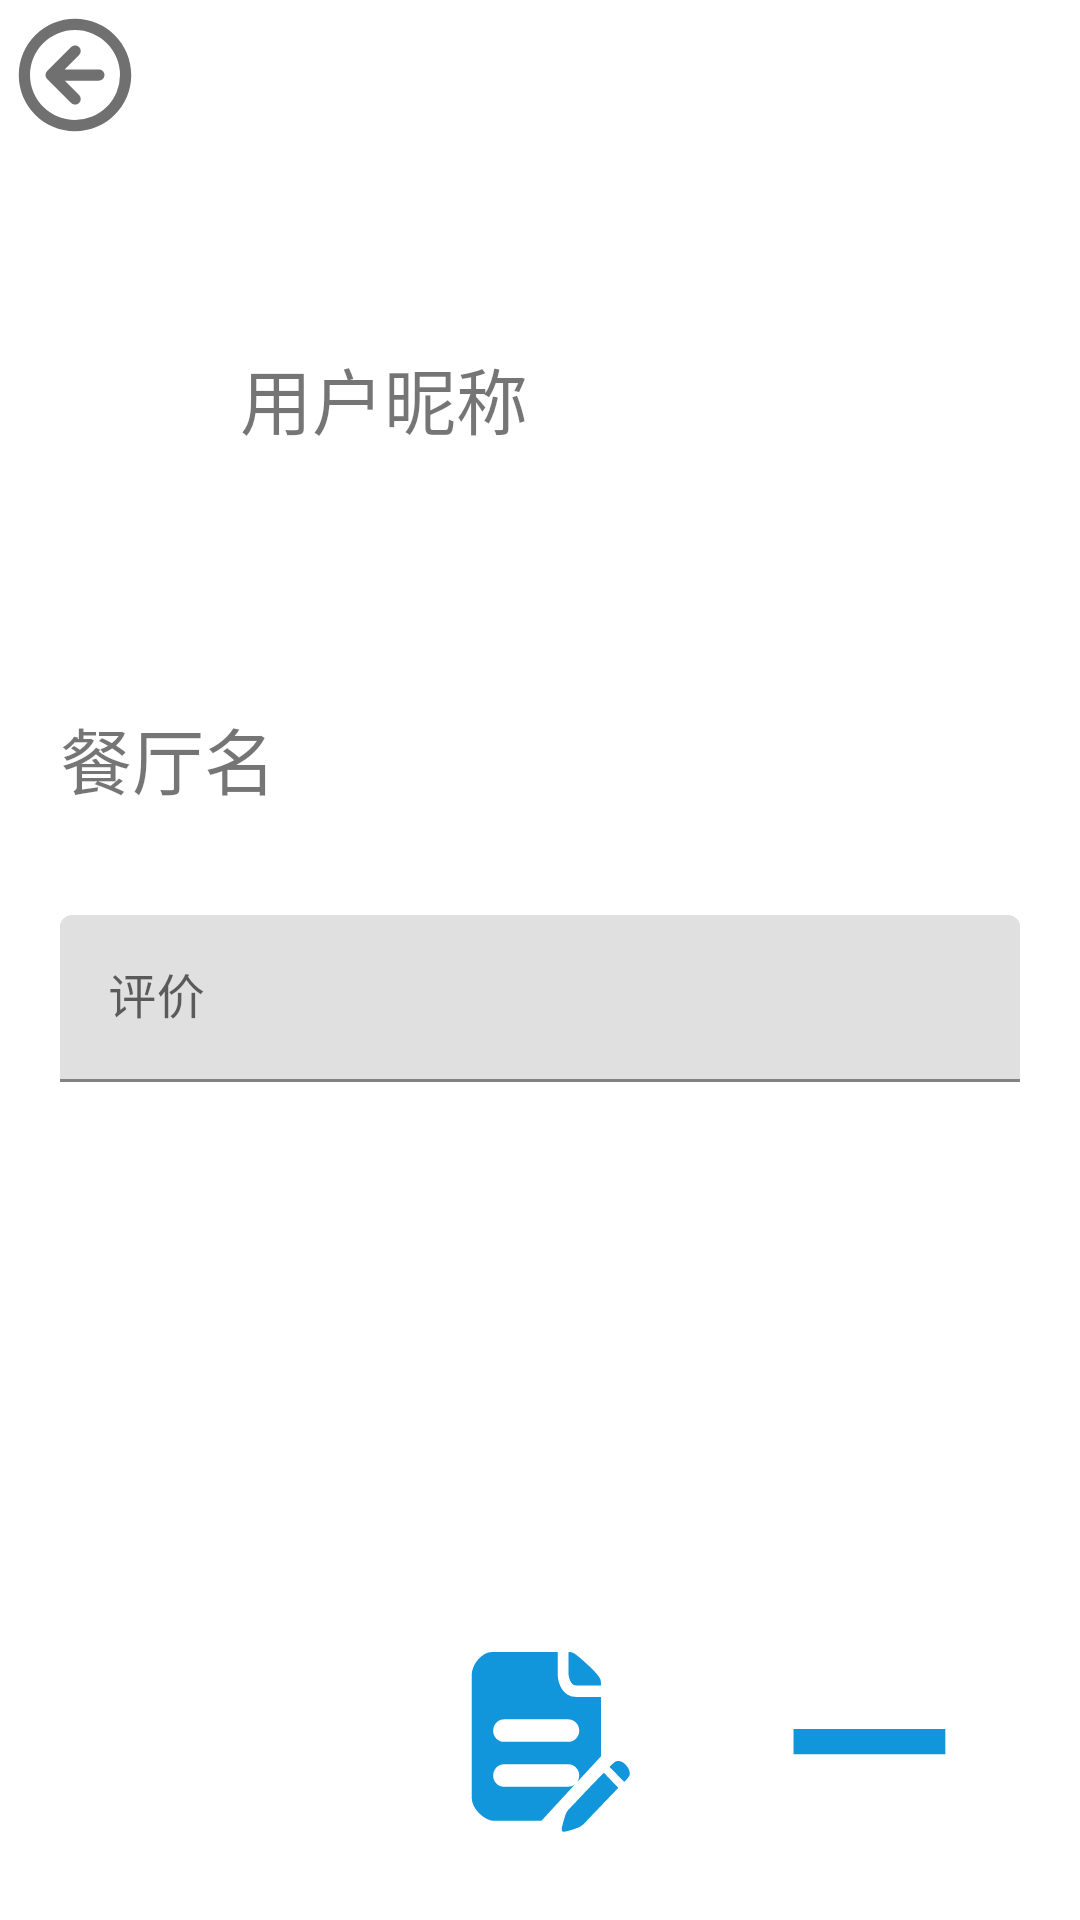

Screen size 1080*1920. Icon name, then its box in pixels as detection(x1, y1, x2, y2):
back: detection(18, 18, 132, 132)
restaurant modify: detection(471, 1652, 630, 1832)
